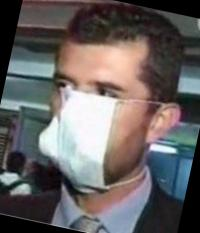mask_weared_incorrect: (30, 63, 161, 200)
